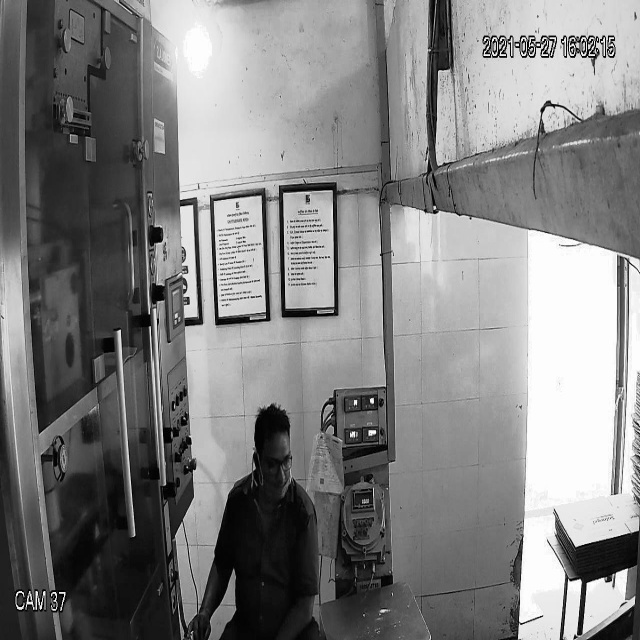Gafas: (253, 443, 295, 477)
